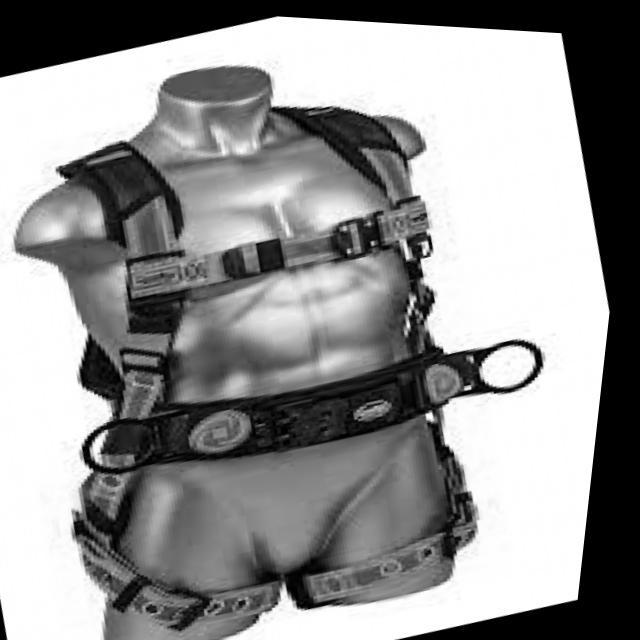belt: (0, 27, 635, 640)
